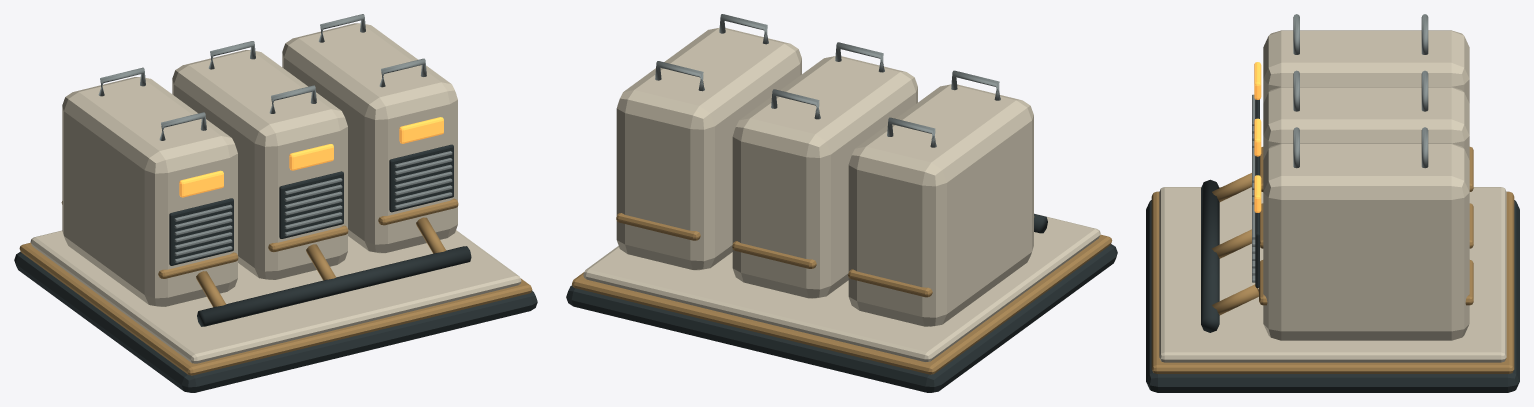
Rendered from battery-b02.glb.
3 renders of one model, left to right at view 1: azimuth 30°, elevation 25°; view 2: azimuth 150°, elevation 25°; view 3: azimuth 270°, elevation 25°, orthographic. The views are drawn at different scales.
Parts seen in each view (by area): view 1: H01 batch 02 / Ares S02 / ceramic pressure shell, H01 batch 00 / Ares S02 / charcoal seals, H01 batch 01 / Ares S02 / brushed bronze, H01 batch 03 / Ares S02 / titanium struts, H01 batch 04 / Ares S02 / warm interior glazing; view 2: H01 batch 02 / Ares S02 / ceramic pressure shell, H01 batch 00 / Ares S02 / charcoal seals, H01 batch 01 / Ares S02 / brushed bronze, H01 batch 03 / Ares S02 / titanium struts; view 3: H01 batch 02 / Ares S02 / ceramic pressure shell, H01 batch 00 / Ares S02 / charcoal seals, H01 batch 01 / Ares S02 / brushed bronze, H01 batch 03 / Ares S02 / titanium struts, H01 batch 04 / Ares S02 / warm interior glazing.
Boxes of the visible parts, left/top/right/bottom form: H01 batch 02 / Ares S02 / ceramic pressure shell: left=30, top=23, right=521, bottom=363; H01 batch 00 / Ares S02 / charcoal seals: left=14, top=144, right=537, bottom=392; H01 batch 01 / Ares S02 / brushed bronze: left=19, top=198, right=532, bottom=375; H01 batch 03 / Ares S02 / titanium struts: left=98, top=14, right=452, bottom=262; H01 batch 04 / Ares S02 / warm interior glazing: left=179, top=117, right=443, bottom=197; H01 batch 02 / Ares S02 / ceramic pressure shell: left=583, top=27, right=1100, bottom=362; H01 batch 00 / Ares S02 / charcoal seals: left=566, top=214, right=1117, bottom=392; H01 batch 01 / Ares S02 / brushed bronze: left=572, top=213, right=1112, bottom=374; H01 batch 03 / Ares S02 / titanium struts: left=655, top=14, right=1000, bottom=147; H01 batch 02 / Ares S02 / ceramic pressure shell: left=1159, top=30, right=1506, bottom=362; H01 batch 00 / Ares S02 / charcoal seals: left=1146, top=99, right=1519, bottom=392; H01 batch 01 / Ares S02 / brushed bronze: left=1151, top=147, right=1514, bottom=373; H01 batch 03 / Ares S02 / titanium struts: left=1252, top=14, right=1428, bottom=282; H01 batch 04 / Ares S02 / warm interior glazing: left=1254, top=62, right=1261, bottom=212.
Size of the model in its own units: 1.55 by 0.8964 by 1.34.
